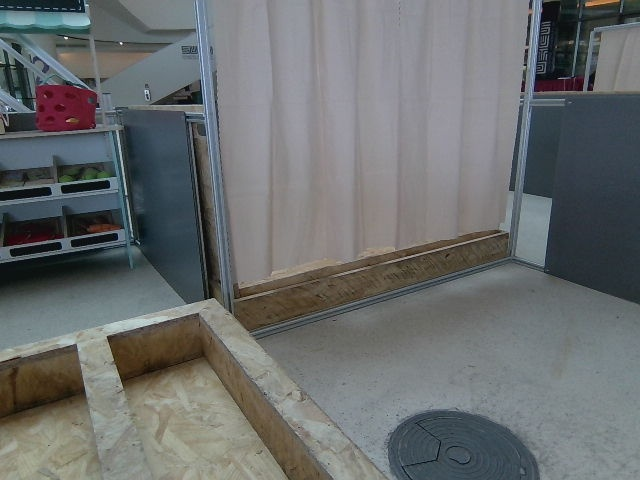curtain: (128, 0, 512, 240)
